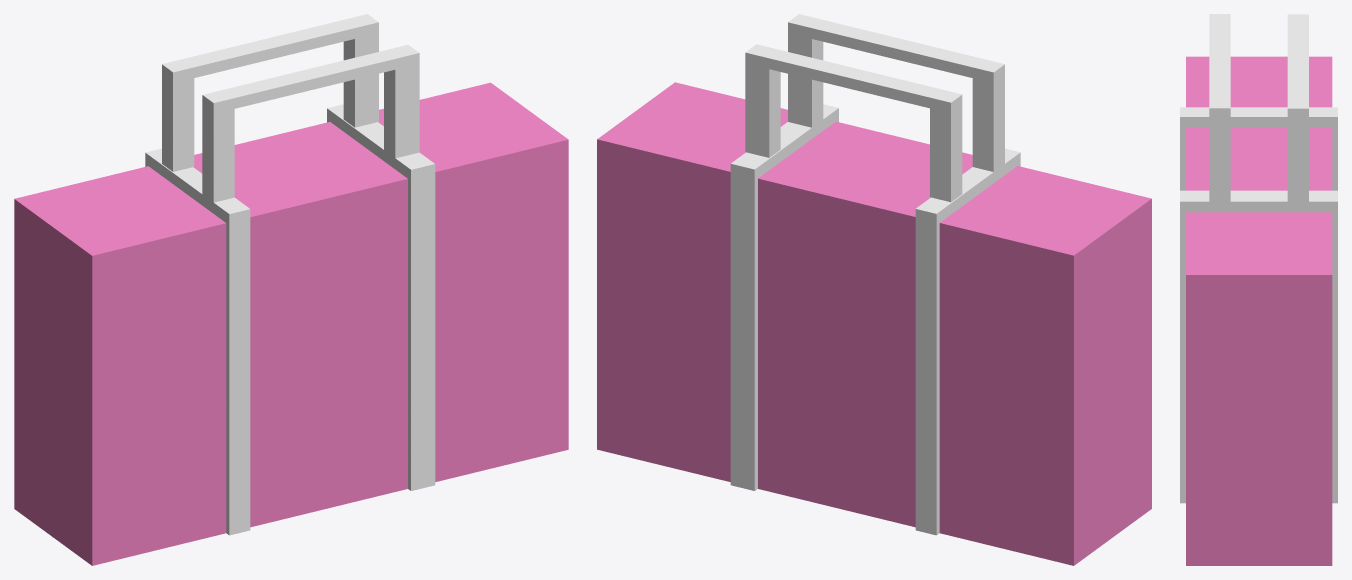
File: bag_big.fbx
3 views of the same model, side by side, from view 1: azimuth 30°, elevation 25°; view 2: azimuth 150°, elevation 25°; view 3: azimuth 270°, elevation 25° (orthographic). The views are drawn at different scales.
Visible parts, largest first — view 1: Cube; view 2: Cube; view 3: Cube.
Part boxes in pixels (<box>): Cube: <box>14,14,568,565</box>; Cube: <box>597,14,1151,565</box>; Cube: <box>1180,14,1337,565</box>.
Bounding box in the file's own units: 375 × 316 × 115.
